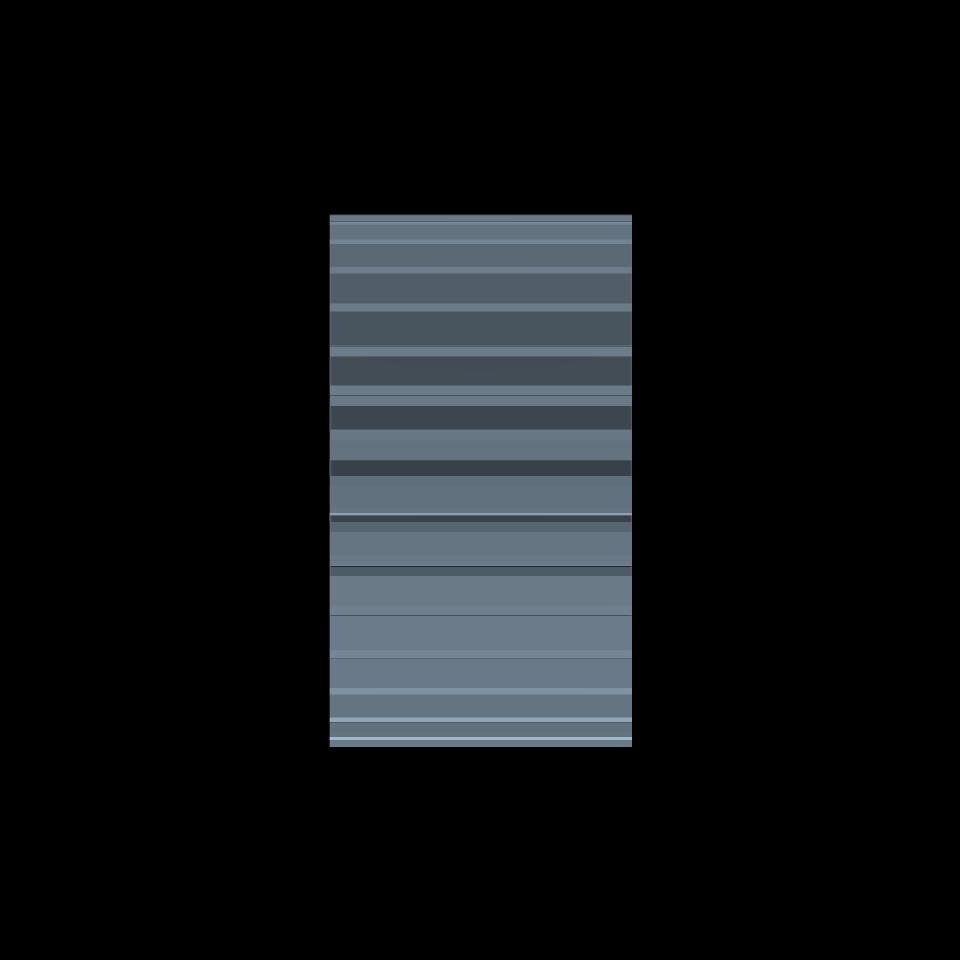Straight: (330, 213, 632, 746)
